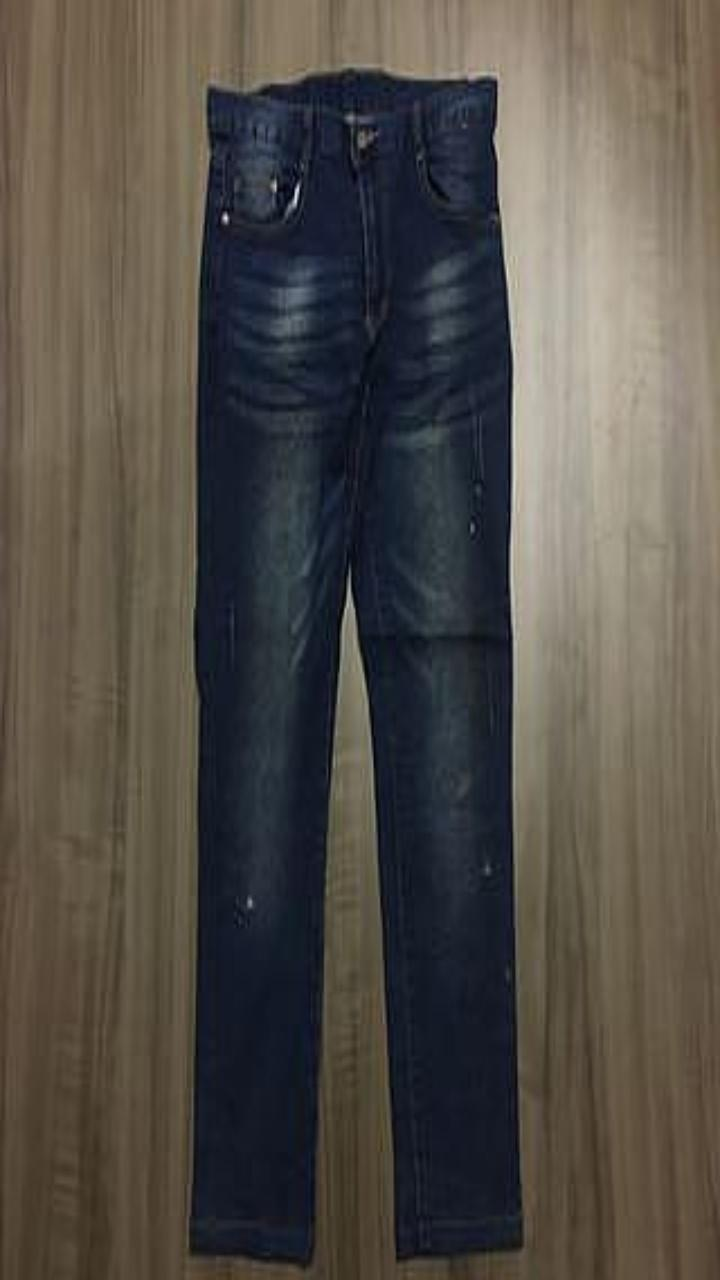Jeans: (189, 67, 522, 1264)
